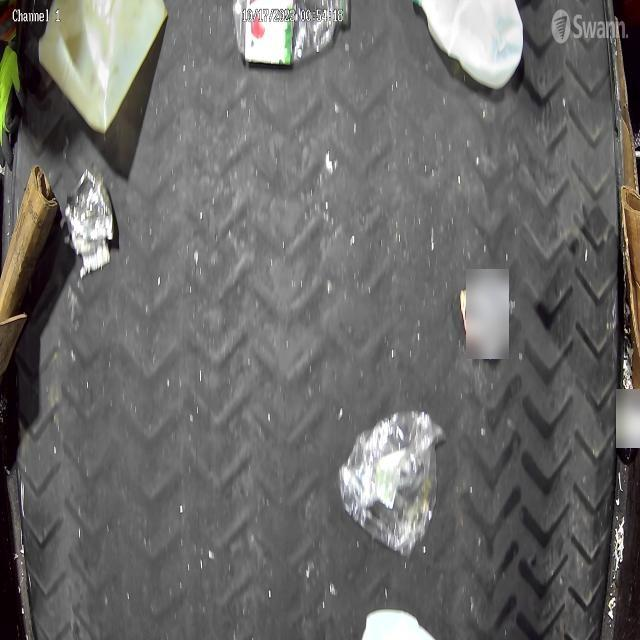milk_jug: (416, 0, 524, 90), (358, 605, 446, 640)
non_white_jug: (39, 0, 170, 132)
plastic_bottle: (232, 0, 350, 64)
